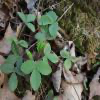Strawberry leaf: (30, 68, 42, 90), (20, 59, 36, 74), (36, 61, 52, 75), (8, 71, 18, 92), (0, 61, 14, 74), (47, 52, 59, 64), (44, 42, 51, 57)
